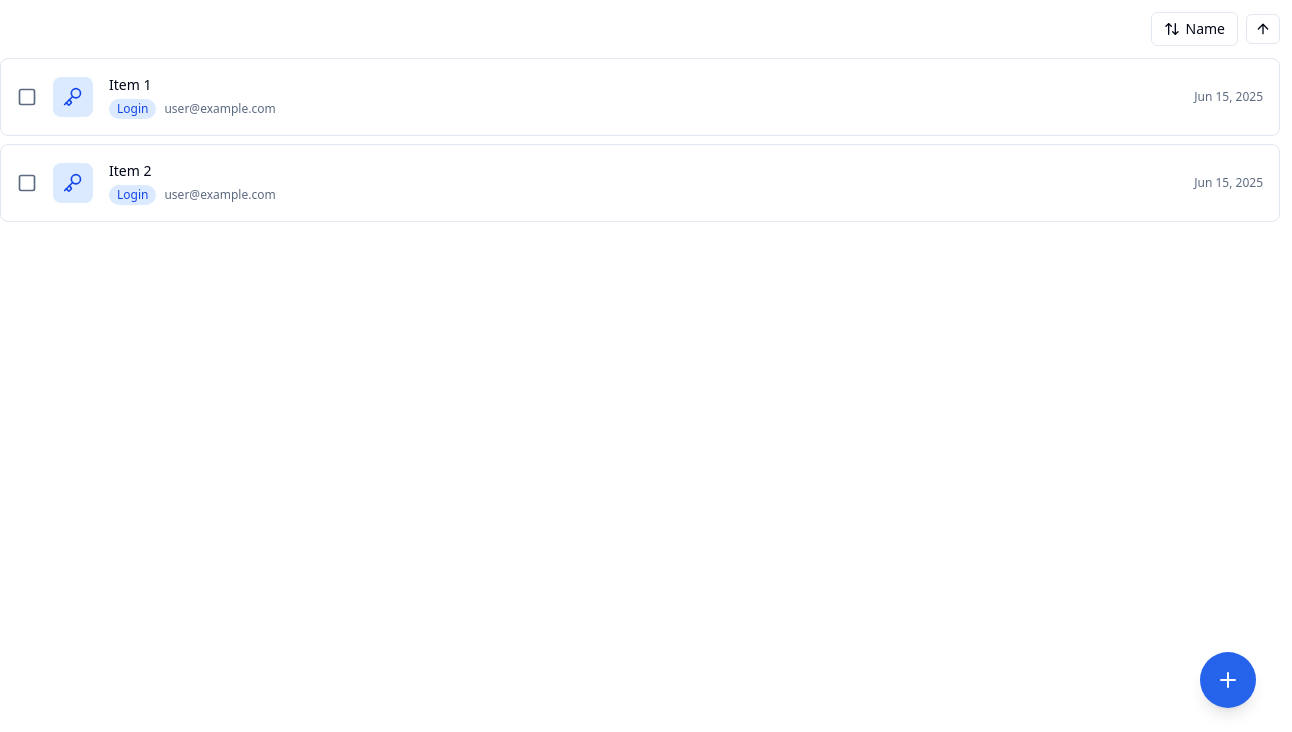
Test: VaultList › Multi-select mode › enters multi-select mode when a checkbox is clicked
The width and height of the screenshot is (1292, 732).
Click the checkbox named "Select item": coordinates (27, 97) 17,87 -> 37,107
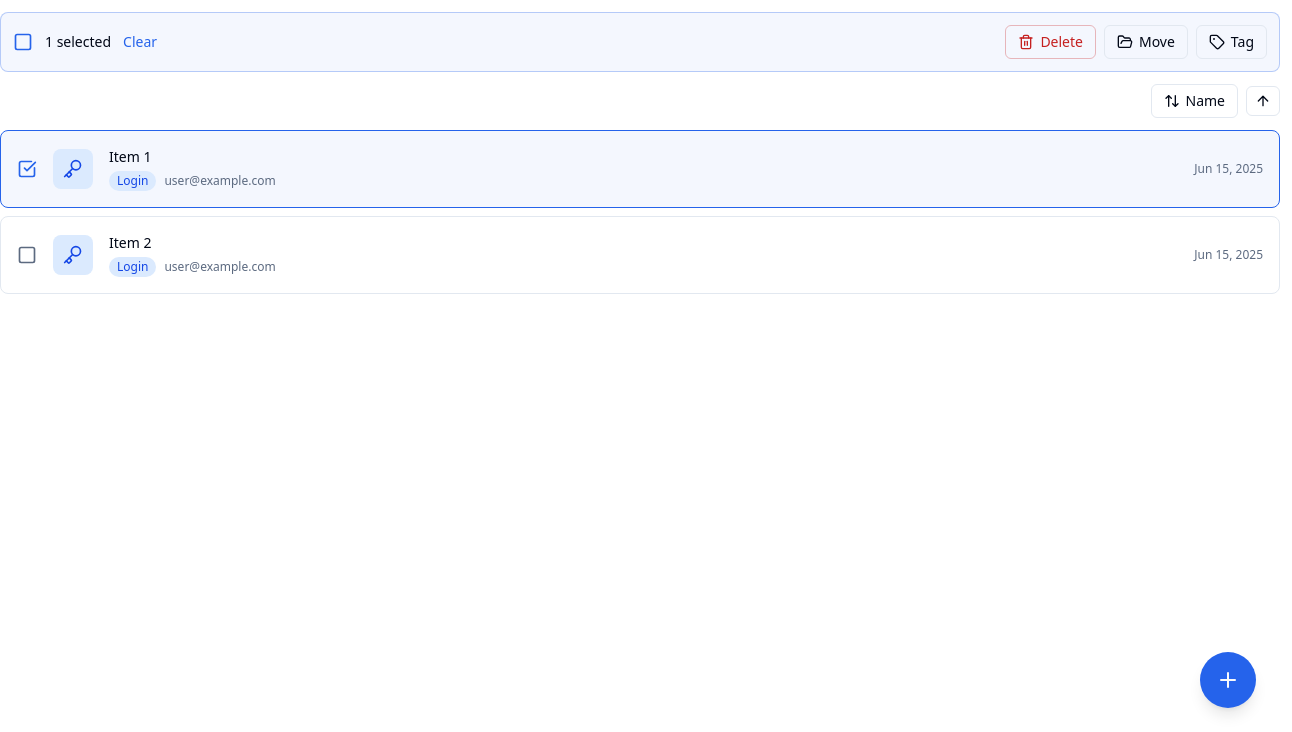
Check: the text "1 selected" is shown, box 45,32 -> 111,52
Check: the button "Clear" is shown, box 123,32 -> 157,52
